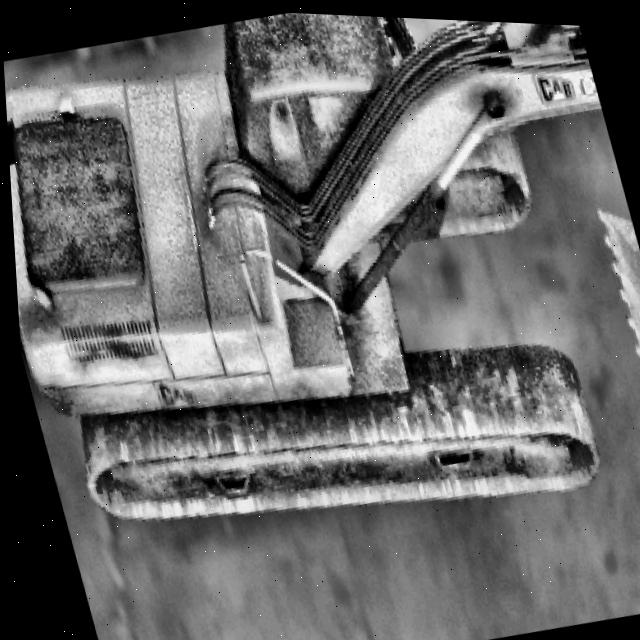excavator: (0, 0, 640, 590)
